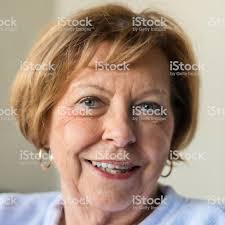white_female: (58, 53, 186, 221)
